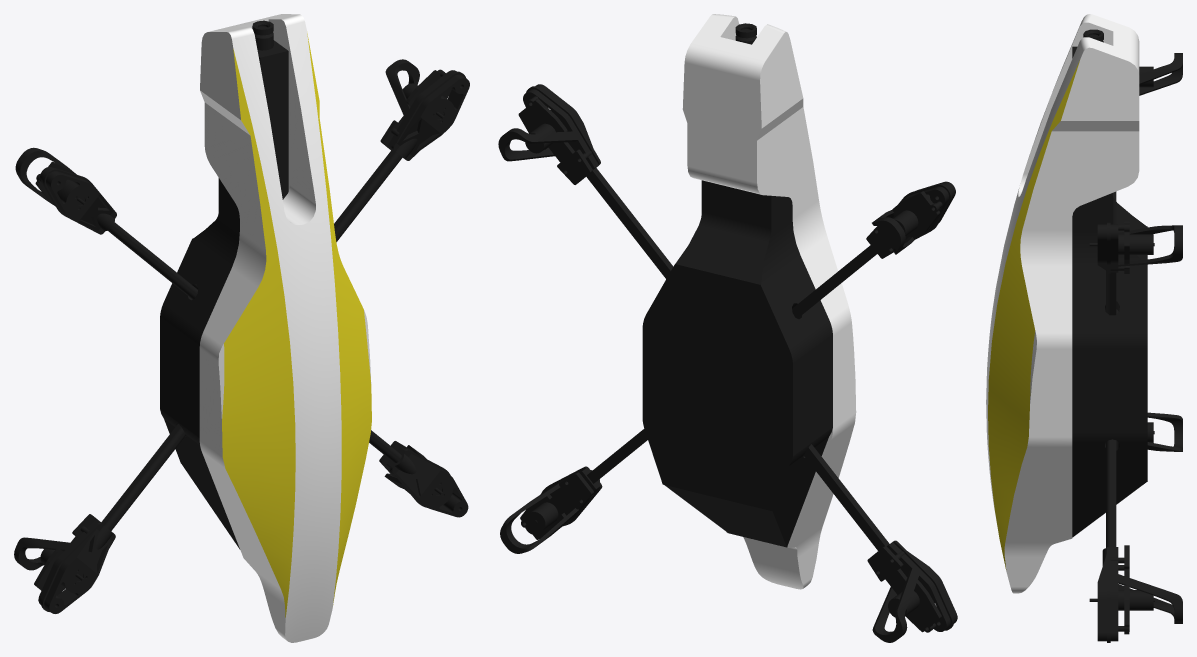
Rendered from ArDrone_Complete_outdoor_asas.obj.
3 views of the same model, side by side, from view 1: azimuth 30°, elevation 25°; view 2: azimuth 150°, elevation 25°; view 3: azimuth 270°, elevation 25° (orthographic). The views are drawn at different scales.
Parts seen in each view (by area): view 1: Solid1:2, Solid1:1, Solid1:7, Solid1:13, Solid1:4, Solid1:10, Solid1:15, Solid1:9, Solid1:6, Solid1:8, Solid1:14; view 2: Solid1, Solid1:2, Solid1:1, Solid1:13, Solid1:7, Solid1:14, Solid1:8, Solid1:11, Solid1:5, Solid1:10, Solid1:9, Solid1:15 (+3 smaller); view 3: Solid1:2, Solid1:1, Solid1:10, Solid1:7, Solid1:12, Solid1:11, Solid1:8, Solid1:4, Solid1:13, Solid1:9.
Boxes of the visible parts, x1=… form: Solid1:2: x1=199, y1=14, x2=371, y2=642; Solid1:1: x1=160, y1=20, x2=288, y2=549; Solid1:7: x1=385, y1=59, x2=469, y2=160; Solid1:13: x1=14, y1=520, x2=115, y2=613; Solid1:4: x1=15, y1=147, x2=116, y2=234; Solid1:10: x1=384, y1=445, x2=468, y2=517; Solid1:15: x1=101, y1=424, x2=185, y2=530; Solid1:9: x1=334, y1=149, x2=402, y2=242; Solid1:6: x1=108, y1=222, x2=197, y2=299; Solid1:8: x1=380, y1=69, x2=451, y2=150; Solid1:14: x1=34, y1=514, x2=100, y2=595; Solid1: x1=642, y1=263, x2=793, y2=510; Solid1:2: x1=682, y1=14, x2=856, y2=589; Solid1:1: x1=664, y1=23, x2=832, y2=547; Solid1:13: x1=872, y1=540, x2=957, y2=642; Solid1:7: x1=498, y1=84, x2=600, y2=169; Solid1:14: x1=867, y1=546, x2=941, y2=632; Solid1:8: x1=518, y1=98, x2=592, y2=184; Solid1:11: x1=520, y1=472, x2=594, y2=539; Solid1:5: x1=866, y1=191, x2=940, y2=258; Solid1:10: x1=500, y1=466, x2=602, y2=553; Solid1:9: x1=586, y1=168, x2=673, y2=278; Solid1:15: x1=804, y1=444, x2=889, y2=550; Solid1:2: x1=986, y1=14, x2=1139, y2=593; Solid1:1: x1=1072, y1=29, x2=1146, y2=537; Solid1:10: x1=1097, y1=547, x2=1182, y2=642; Solid1:7: x1=1097, y1=222, x2=1182, y2=273; Solid1:12: x1=1106, y1=439, x2=1116, y2=547; Solid1:11: x1=1089, y1=545, x2=1154, y2=634; Solid1:8: x1=1089, y1=221, x2=1154, y2=273; Solid1:4: x1=1139, y1=53, x2=1182, y2=95; Solid1:13: x1=1147, y1=412, x2=1182, y2=451; Solid1:9: x1=1106, y1=271, x2=1116, y2=315.
Bounding box in the file's own units: 270 × 357 × 114.
